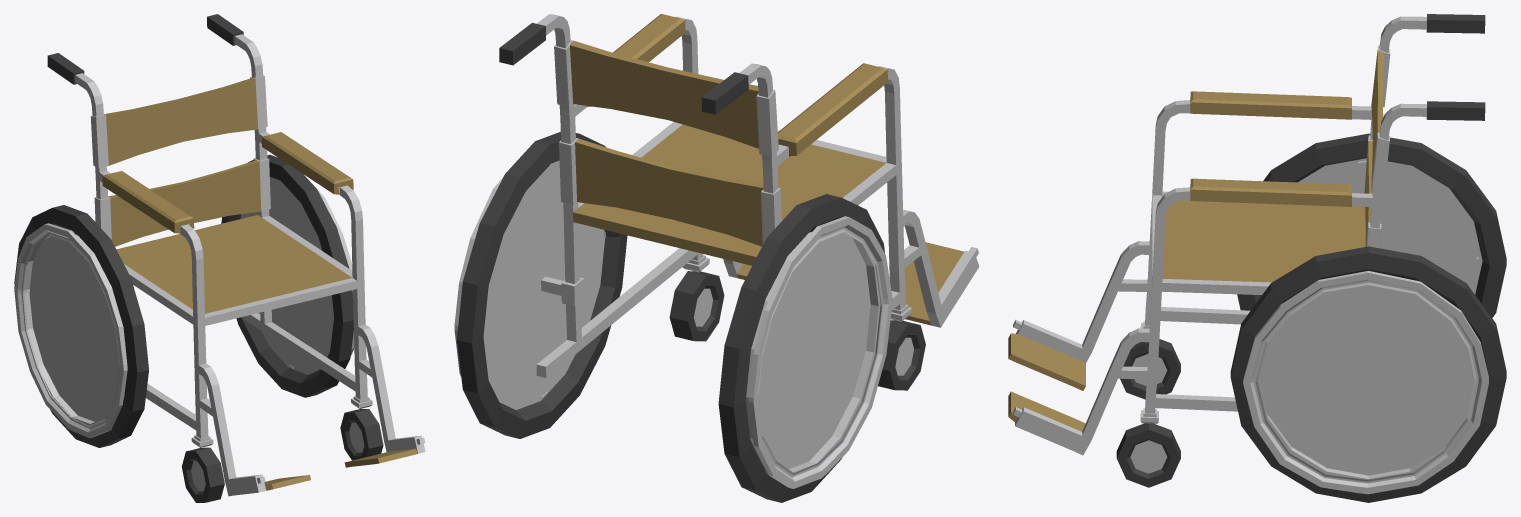
File: wheelchair 1.fbx
3 renders of one model, left to right at view 1: azimuth 30°, elevation 25°; view 2: azimuth 150°, elevation 25°; view 3: azimuth 270°, elevation 25°, orthographic. The views are drawn at different scales.
Visible parts, largest first — view 1: seat.002, back wheels.003, back wheels.004, wheel handles.003, front wheel.003, front wheel.004; view 2: seat.002, back wheels.003, back wheels.004, wheel handles.003, front wheel.004, front wheel.003, wheel handles.004; view 3: seat.002, back wheels.004, back wheels.003, wheel handles.004, front wheel.004, front wheel.003.
Boxes of the visible parts, x1,y1,x2,y2 form: seat.002: [47, 14, 425, 496]; back wheels.003: [14, 205, 148, 447]; back wheels.004: [221, 154, 353, 397]; wheel handles.003: [14, 223, 127, 438]; front wheel.003: [181, 447, 224, 502]; front wheel.004: [340, 409, 383, 460]; seat.002: [499, 14, 979, 377]; back wheels.003: [718, 194, 884, 502]; back wheels.004: [457, 132, 627, 438]; wheel handles.003: [748, 216, 892, 488]; front wheel.004: [669, 271, 724, 341]; front wheel.003: [878, 320, 925, 390]; wheel handles.004: [454, 168, 606, 399]; seat.002: [1008, 14, 1485, 455]; back wheels.004: [1230, 246, 1506, 502]; back wheels.003: [1237, 133, 1506, 317]; wheel handles.004: [1243, 270, 1488, 494]; front wheel.004: [1116, 423, 1180, 487]; front wheel.003: [1120, 339, 1180, 399].
Bounding box in the file's own units: 97.22 × 135 × 159.
